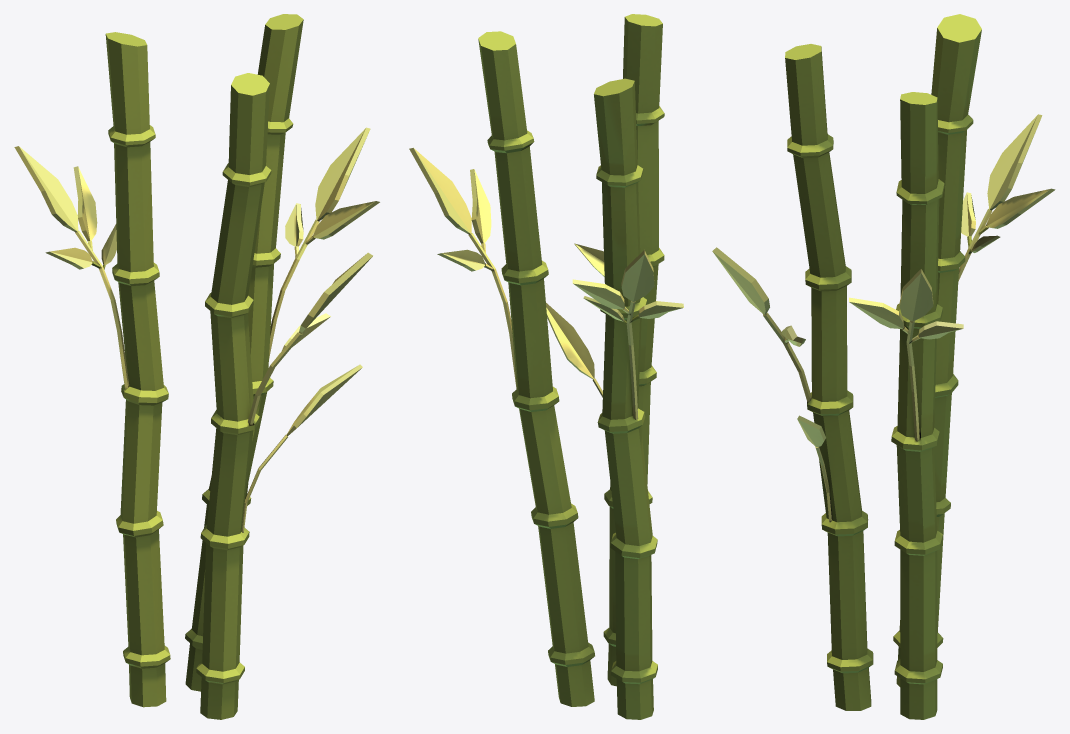
File: bambu.fbx
3 views of the same model, side by side, from view 1: azimuth 30°, elevation 25°; view 2: azimuth 150°, elevation 25°; view 3: azimuth 270°, elevation 25° (orthographic). The views are drawn at different scales.
Visible parts, largest first — view 1: bamboo.001; view 2: bamboo.001; view 3: bamboo.001.
Boxes of the visible parts, box(x1,y1,x2,y2) form: bamboo.001: box(14, 14, 379, 719); bamboo.001: box(409, 14, 683, 719); bamboo.001: box(712, 14, 1055, 719).
Bounding box in the file's own units: 171 × 352 × 166.
